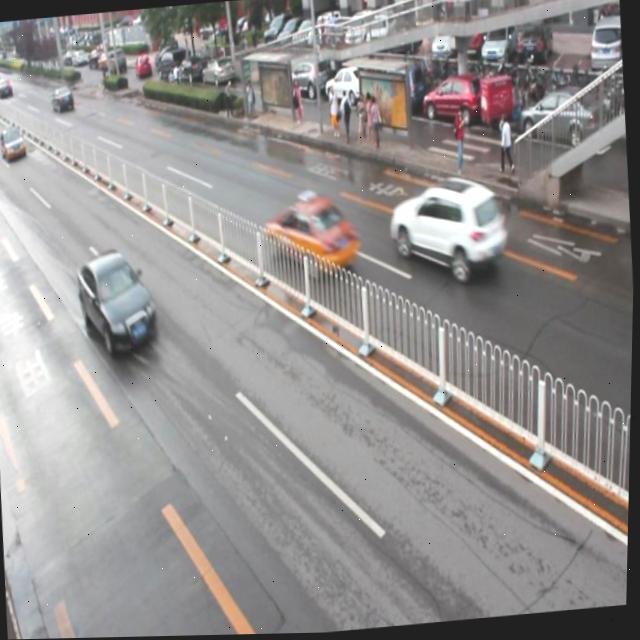car: (387, 172, 511, 288), (76, 245, 161, 355), (263, 194, 363, 284)
